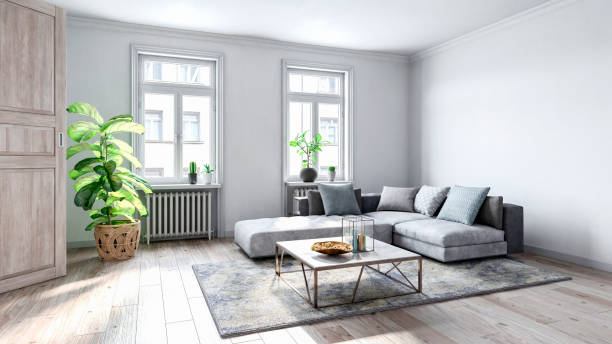large plant: (64, 101, 155, 263)
small plant: (288, 130, 324, 183), (203, 160, 215, 184), (187, 159, 198, 184), (326, 164, 336, 181)
sofa: (234, 181, 527, 265)
table: (272, 232, 423, 311)
